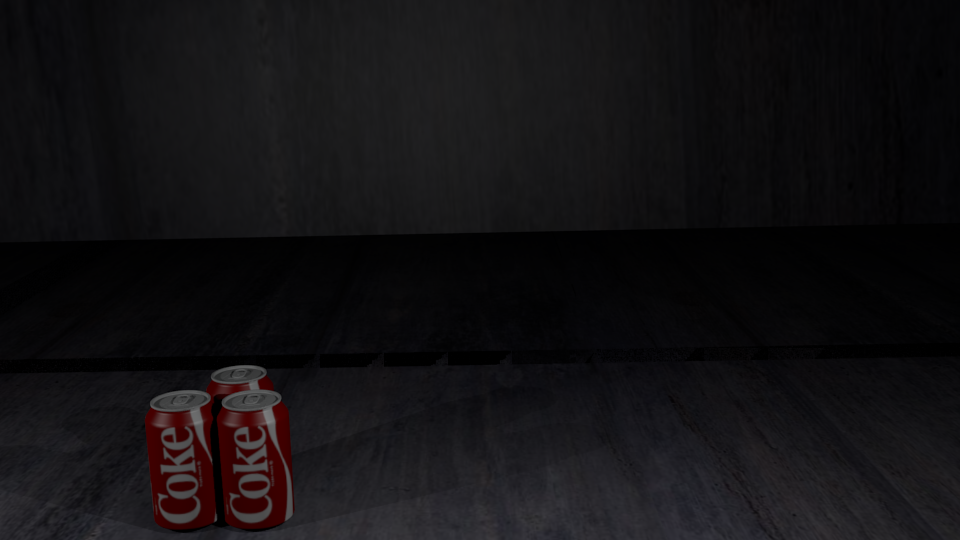cola_can: (145, 390, 220, 526), (217, 390, 291, 524), (206, 366, 272, 492)
